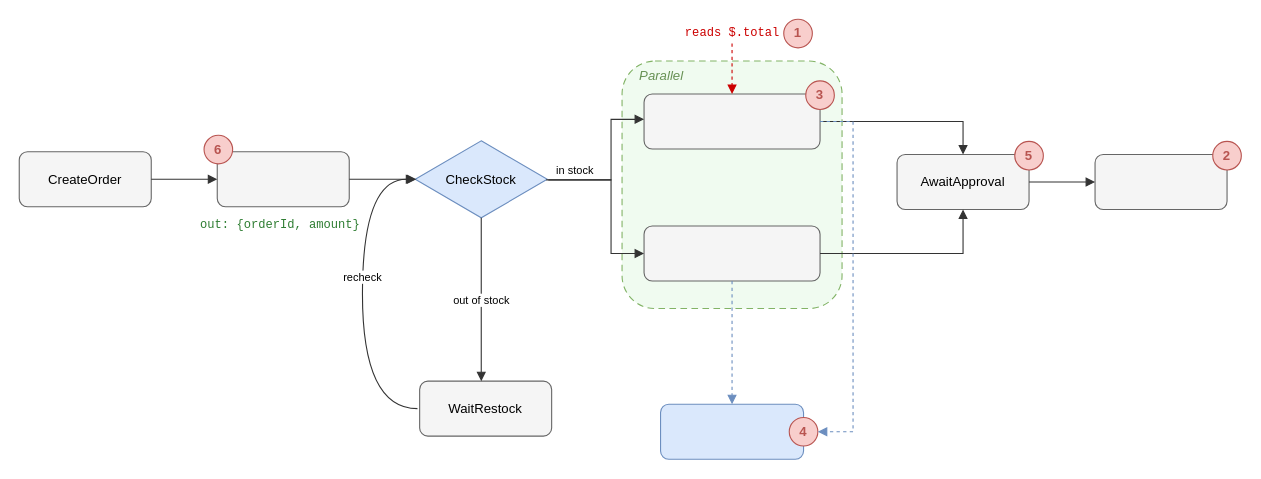
The diagram is 1261 pixels wide and 479 high, and some of its shapes have lost their labels. Each missing label, with the box of its shape:
ChargeCard: (643, 93, 820, 149)
DynamoDB orders[id]: (659, 403, 804, 459)
ReserveInventory: (216, 151, 349, 207)
ScreenFraud: (643, 225, 820, 281)
ShipOrder: (1094, 153, 1227, 210)
